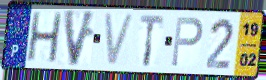2: (205, 16, 236, 71)
H: (24, 11, 63, 65)
P: (170, 15, 205, 69)
T: (138, 13, 166, 69)
V: (62, 8, 98, 69), (102, 11, 137, 68)
